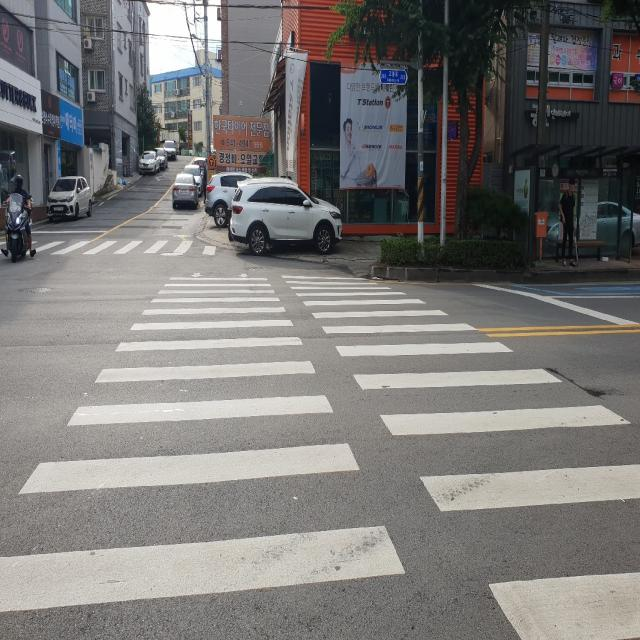횡단보도: (0, 271, 640, 640), (2, 220, 220, 265)
